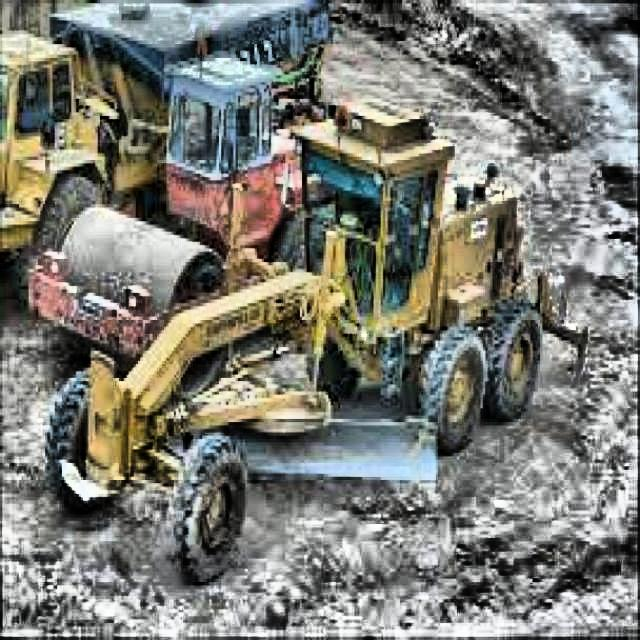bull_dozer/loader/grader: (44, 93, 591, 588), (28, 46, 332, 402), (0, 0, 329, 310)
person: (368, 184, 402, 262)
